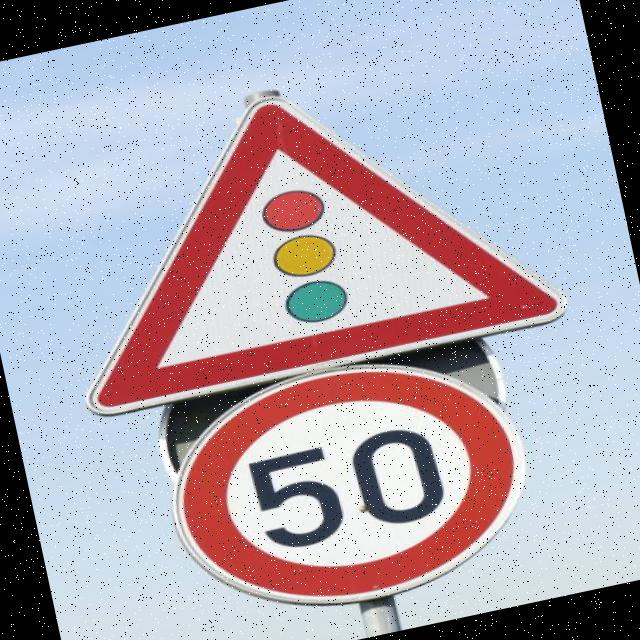light_traffic: (34, 41, 577, 423)
speed_limit_50: (148, 328, 550, 640)
